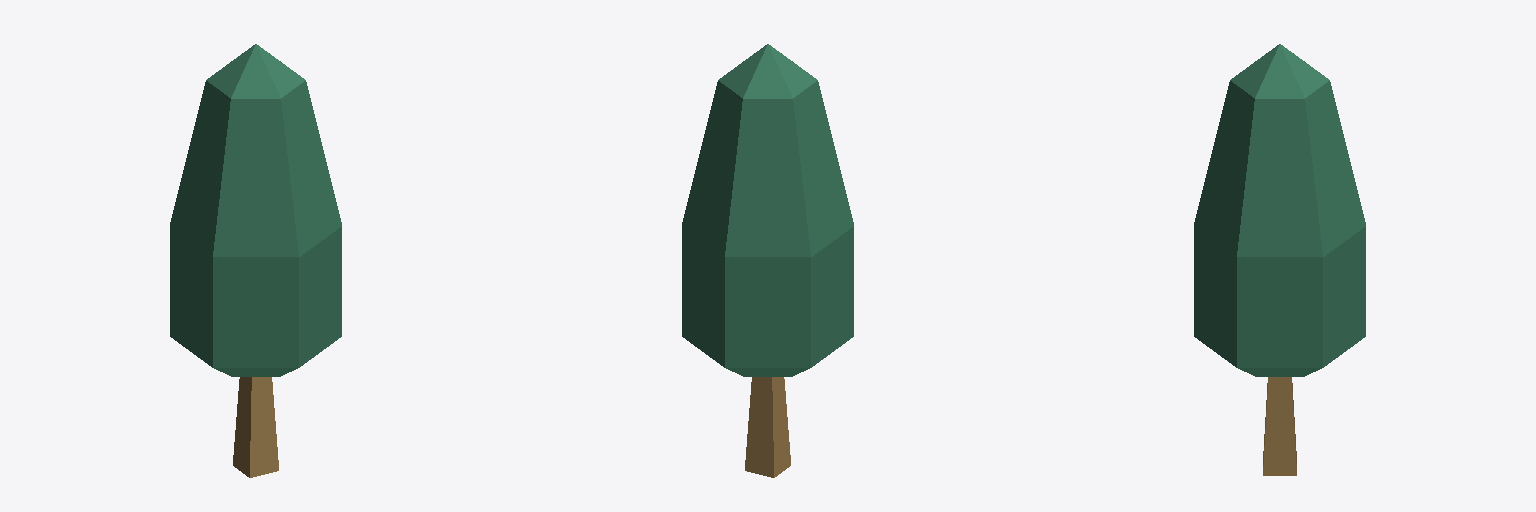
File: Oak_Green_01.obj
The picture shows the model from 3 angles: view 1: azimuth 30°, elevation 25°; view 2: azimuth 150°, elevation 25°; view 3: azimuth 270°, elevation 25°; orthographic projection.
Visible parts, largest first — view 1: Mesh1_Oak_Green_Model; view 2: Mesh1_Oak_Green_Model; view 3: Mesh1_Oak_Green_Model.
Boxes of the visible parts, x1,y1,x2,y2 form: Mesh1_Oak_Green_Model: [170, 44, 341, 477]; Mesh1_Oak_Green_Model: [682, 44, 853, 477]; Mesh1_Oak_Green_Model: [1194, 44, 1365, 475].
Size of the model in its own units: 1.58 by 4.93 by 1.82.